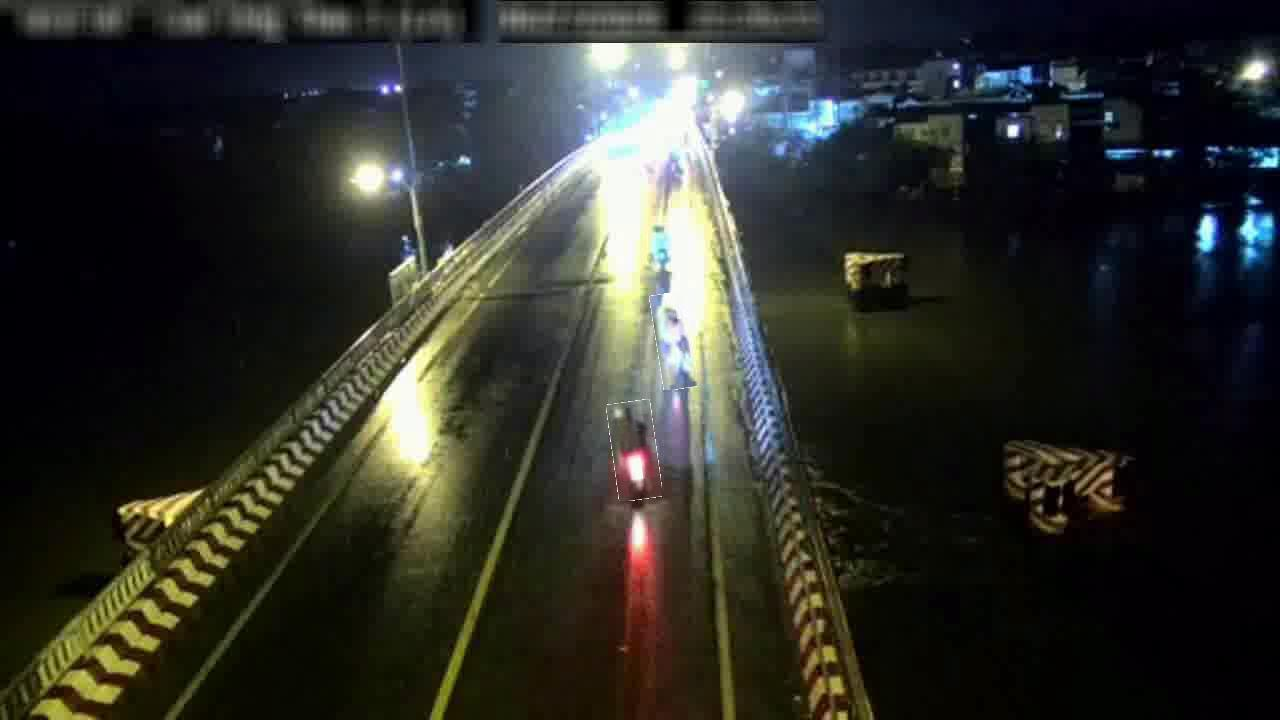motorbike: (610, 401, 660, 501), (653, 292, 695, 390), (648, 223, 674, 272)
